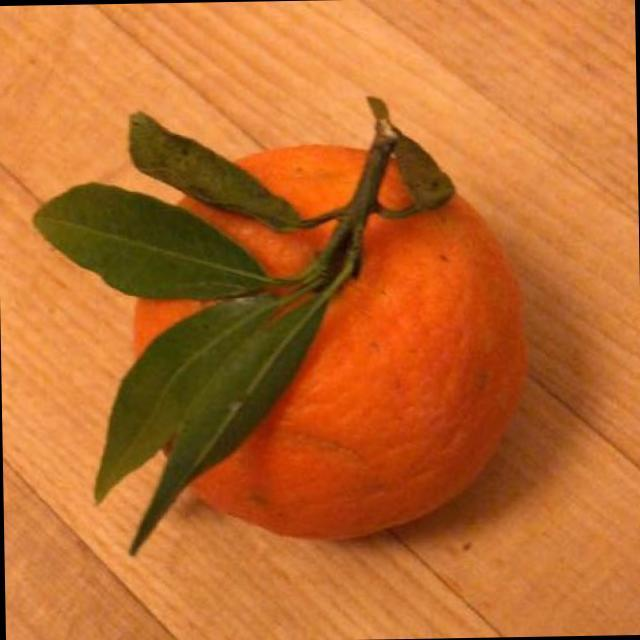Orange: (29, 74, 544, 572)
